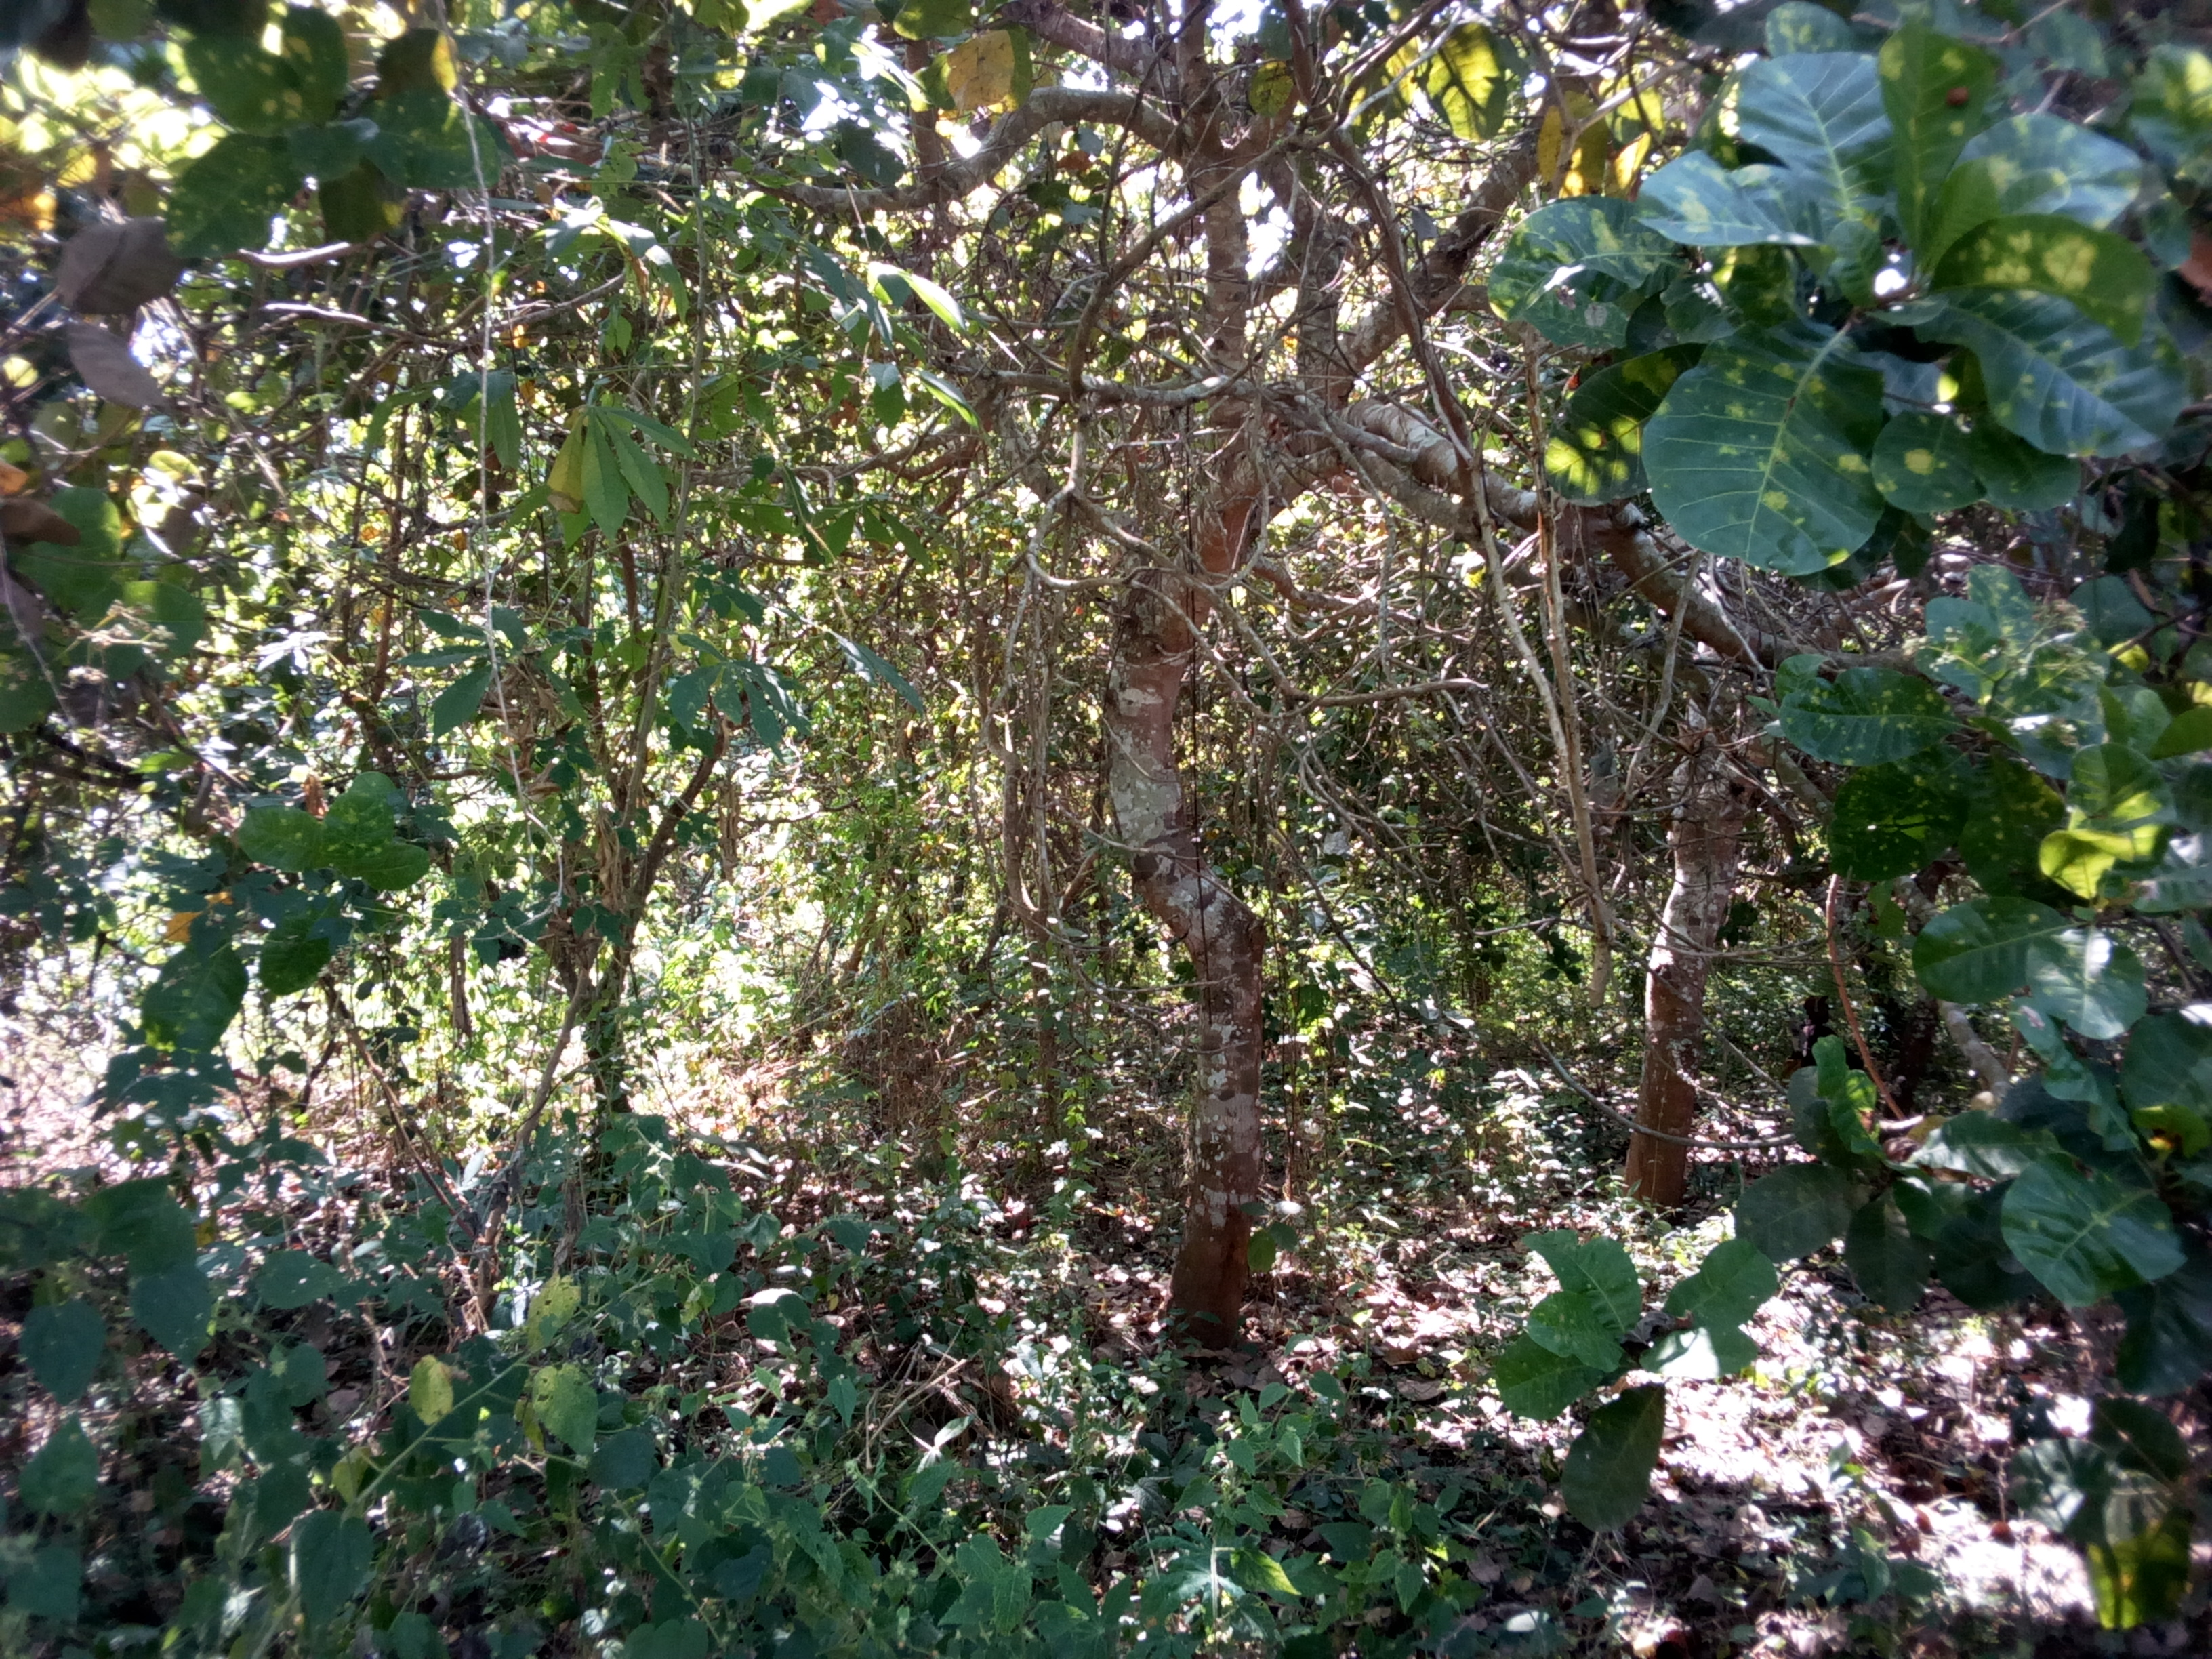Carence minérale: (1618, 328, 1944, 573), (1961, 220, 2210, 464), (1763, 650, 1972, 847), (1733, 42, 1914, 230), (1625, 141, 1827, 265), (1533, 1279, 1660, 1401)
